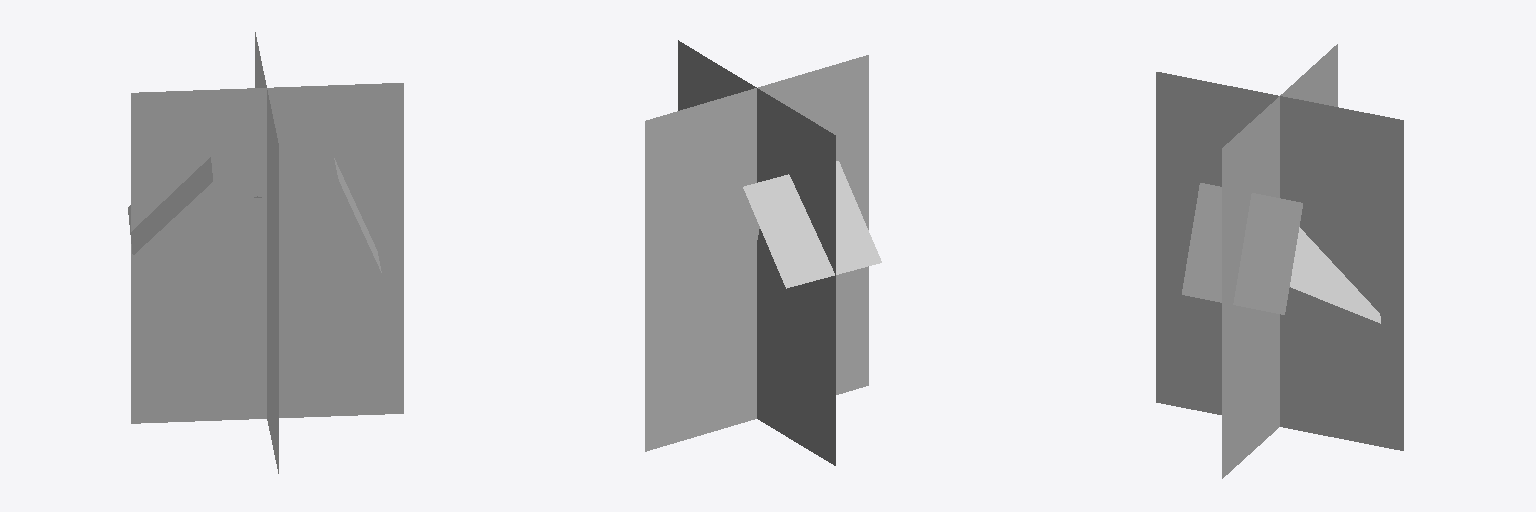
The model's file is text_plant_1.obj.
3 views of the same model, side by side, from view 1: azimuth 30°, elevation 25°; view 2: azimuth 150°, elevation 25°; view 3: azimuth 270°, elevation 25° (orthographic).
Visible parts, largest first — view 1: cube1, cube0, cube2, cube3; view 2: cube0, cube1, cube2, cube4; view 3: cube0, cube1, cube3, cube4.
Part boxes in pixels (x1,y1,x2,y2): cube1: (131,83,403,423); cube0: (255,32,278,473); cube2: (128,157,212,254); cube3: (334,158,381,272); cube0: (645,55,868,451); cube1: (678,40,835,465); cube2: (743,161,881,288); cube4: (667,206,759,312); cube0: (1156,72,1403,450); cube1: (1222,44,1337,478); cube3: (1182,183,1302,314); cube4: (1290,227,1380,323).
Size of the model in its own units: 0.751 by 1 by 0.6797.